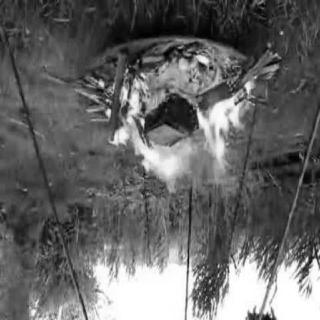Fire: (71, 42, 275, 226)
